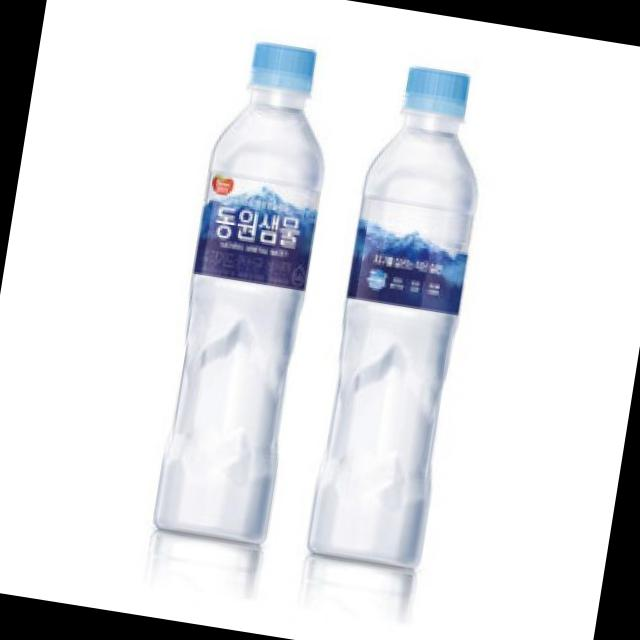plastic_bottle: (304, 61, 500, 577), (151, 36, 346, 548)
